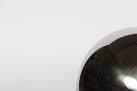ironball: (70, 18, 136, 90)
